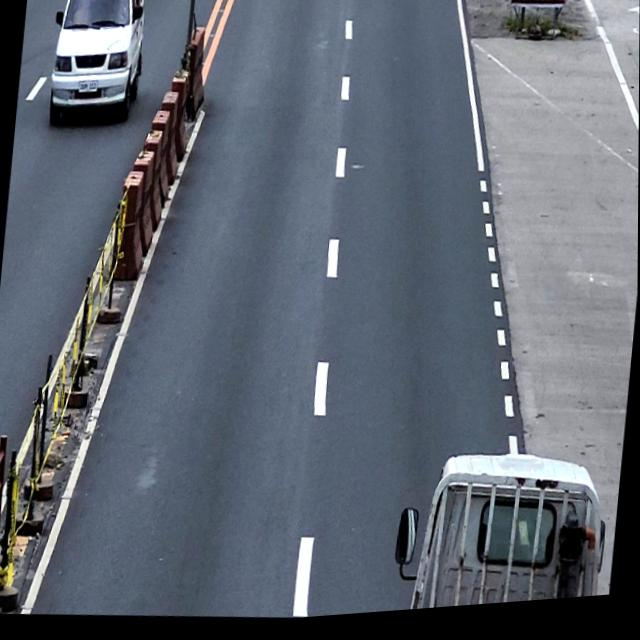Car: (44, 0, 150, 131)
License-Plate: (78, 80, 98, 94)
Truck: (387, 441, 615, 617)
